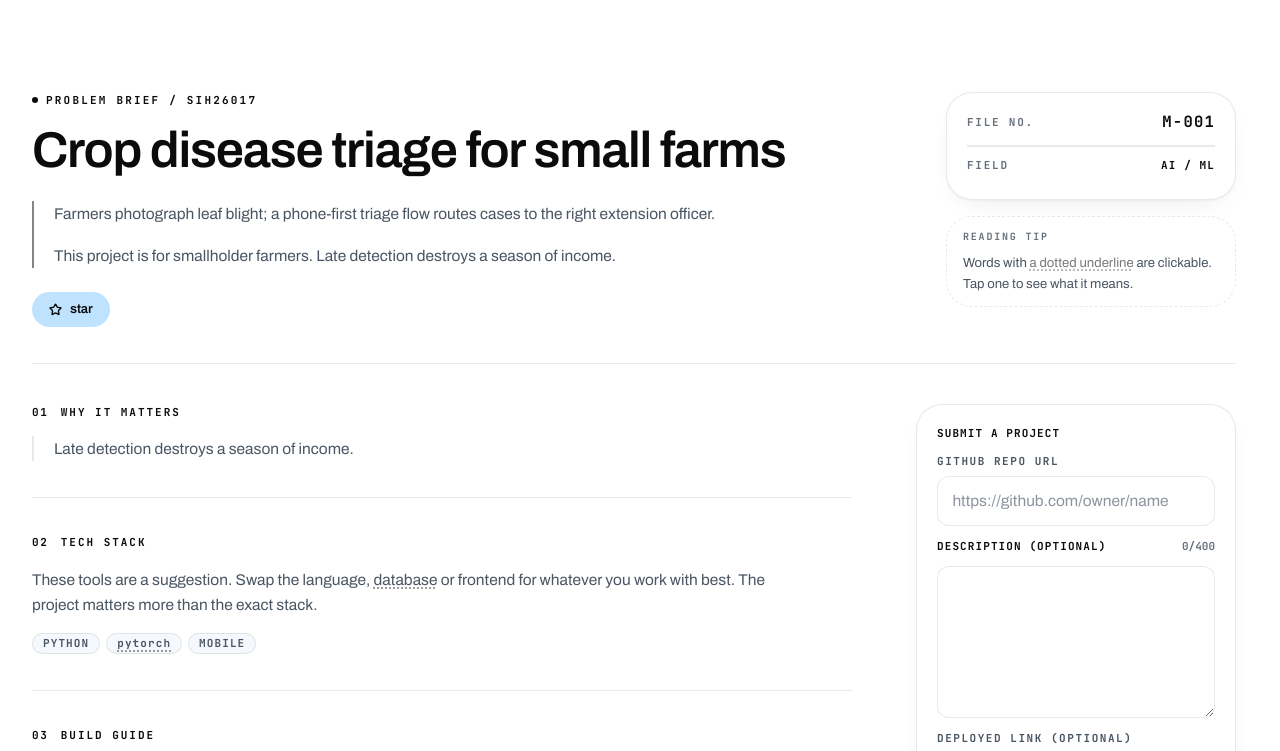
ProblemDetailPage › submits a valid repo URL and shows the submitted panel
The width and height of the screenshot is (1280, 751).
Expected: the heading "Submit a project" is shown, [937,426,1060,440]
Type "https://github.com/tester/new-thing/" into the field labelled "GitHub repo URL" at (1076, 501), box [937,476,1215,526]
(page scrolled)
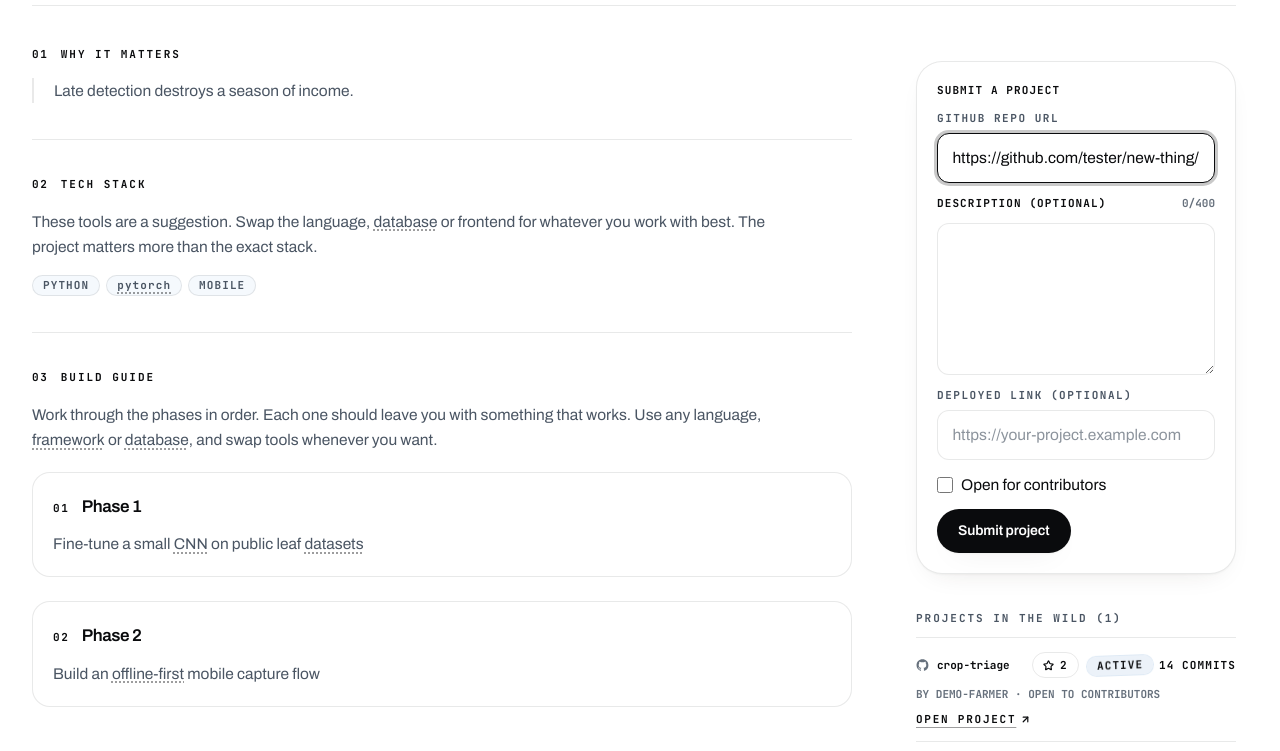
Click the checkbox labelled "Open for contributors" at (945, 485), box [937,477,953,493]
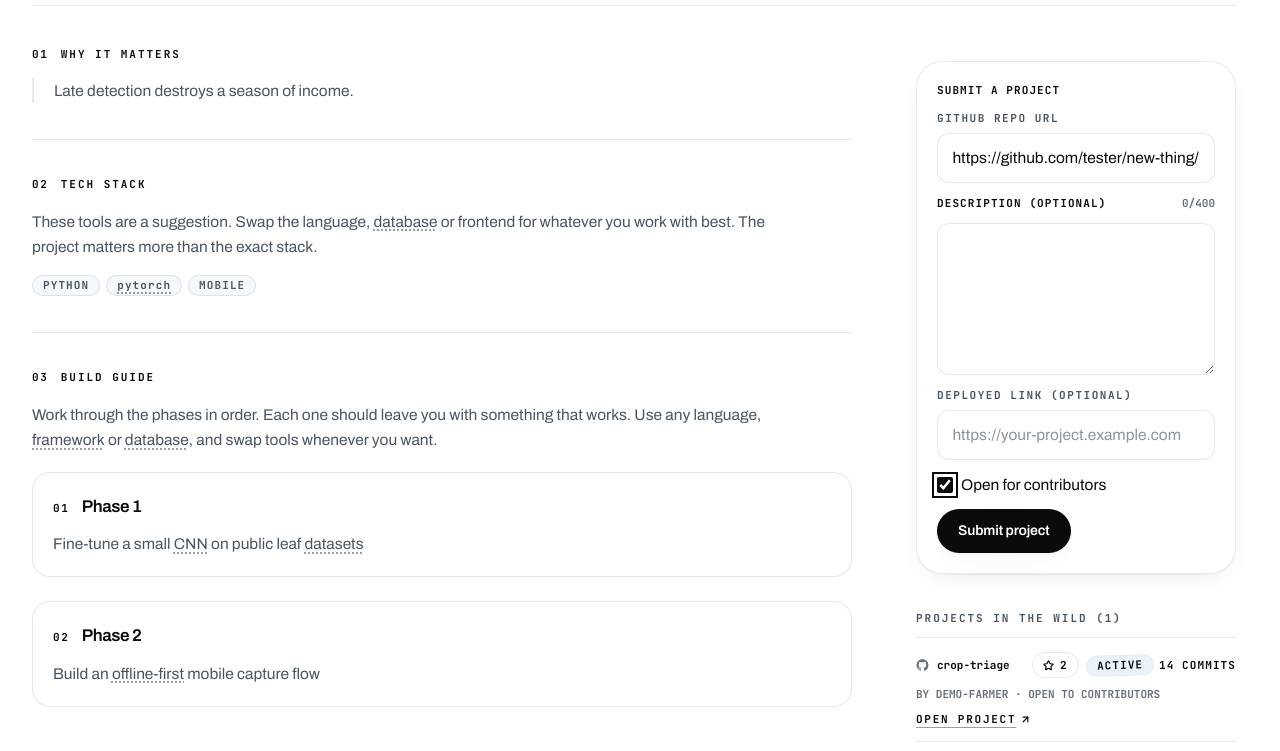
Click the button "Submit project" at (1004, 532), box [937,510,1071,554]
(page scrolled)
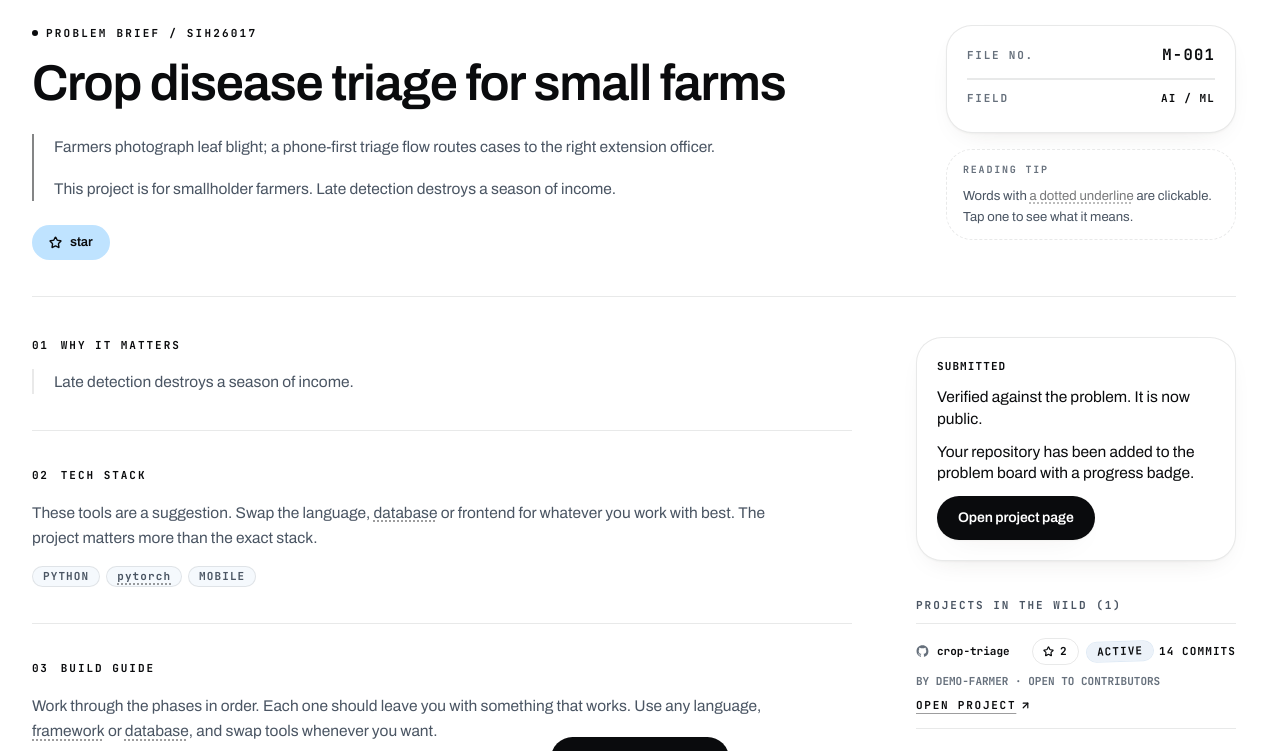
Expected: the text "added to the problem board with a progress badge" is shown, [937,443,1194,481]
